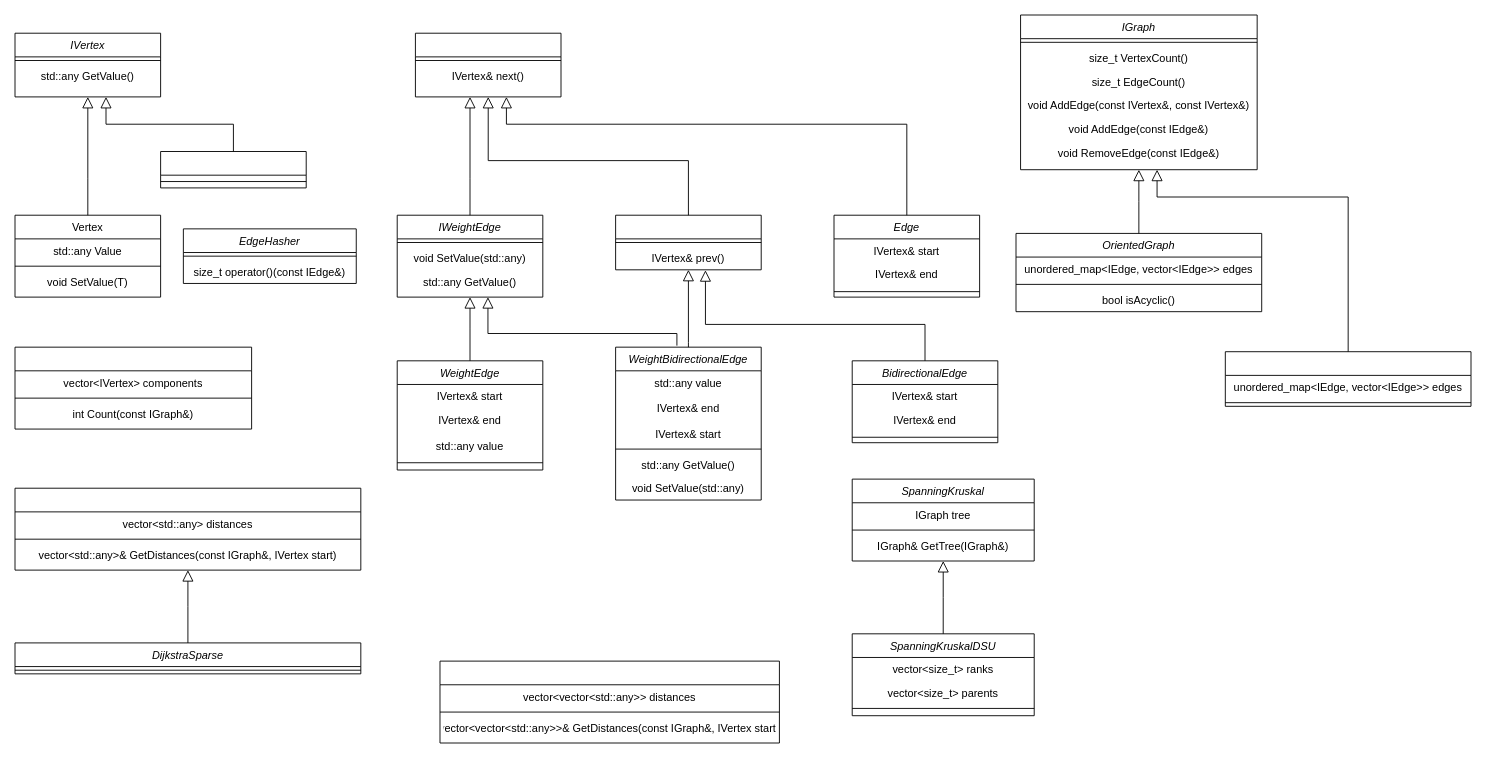
This 1486x758 diagram has some shape labels left out. The box of each missing label's shape, as (x1, y1, x2, y2) in pixels:
BidirectionalGraph: (1224, 351, 1471, 406)
ConnectivityComponent: (14, 346, 252, 429)
DijkstraClassic: (14, 487, 361, 570)
EmptyVertex: (160, 151, 306, 188)
FloydWarshall: (439, 660, 779, 743)
IBidirectionalEdge: (615, 214, 761, 270)
IEdge: (415, 32, 561, 97)
